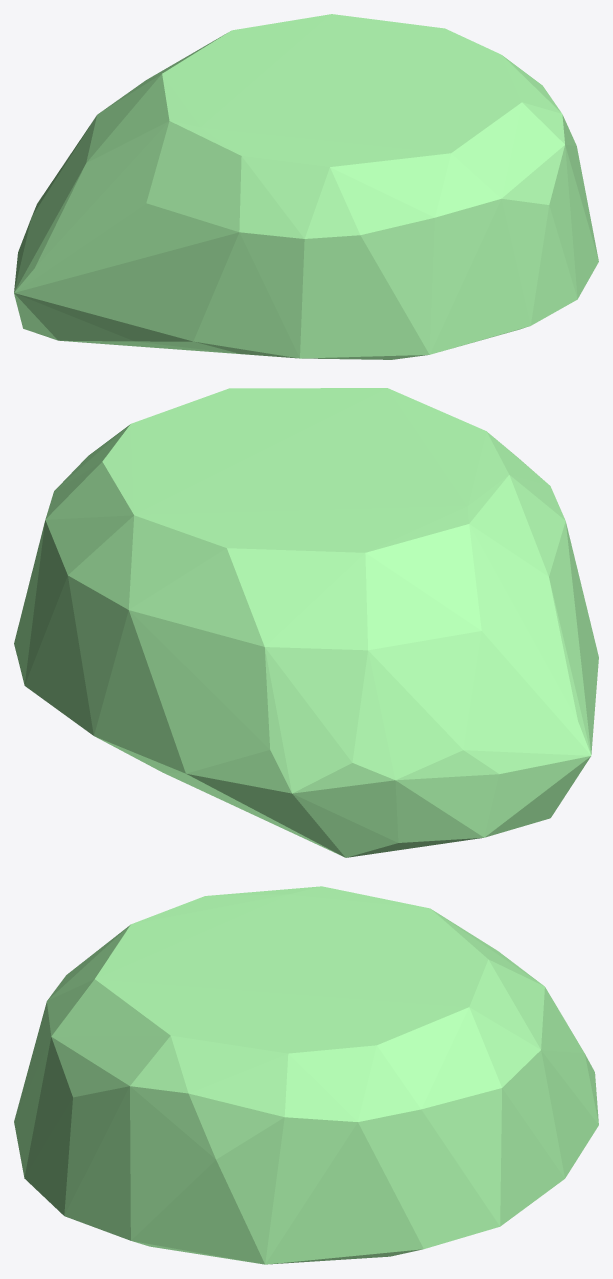
The model's file is panda_link4_resp_coll_1.dae.
The picture shows the model from 3 angles, top to bottom: view 1: azimuth 30°, elevation 25°; view 2: azimuth 150°, elevation 25°; view 3: azimuth 270°, elevation 25°; orthographic projection. The views are drawn at different scales.
Visible parts, largest first — view 1: node; view 2: node; view 3: node.
Boxes of the visible parts, <box> form: node: <box>14,14,598,359</box>; node: <box>14,388,598,857</box>; node: <box>14,886,598,1264</box>.
Bounding box in the file's own units: 0.1217 × 0.0494 × 0.1099.
